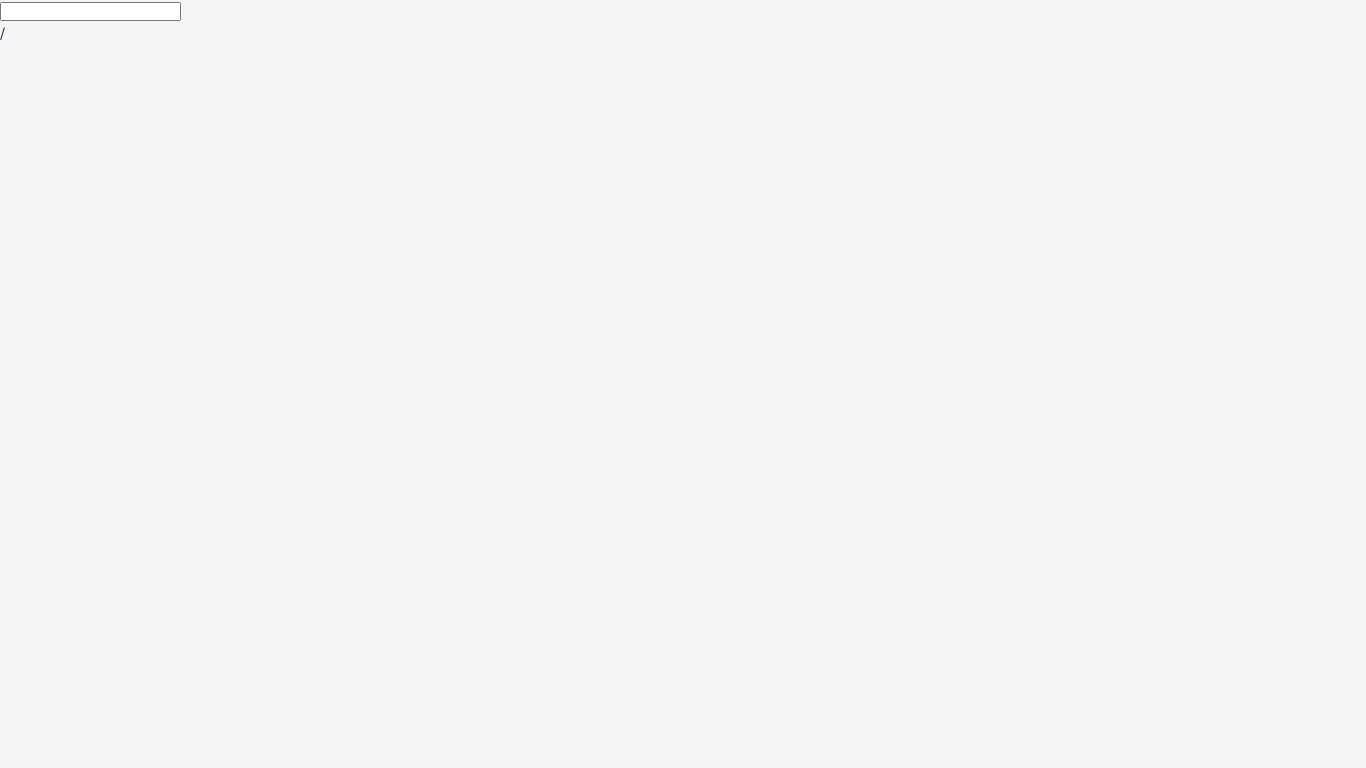
Test: shows a note when device search fails, and still finds pages
Type keys "{Control>}k{/Control}"
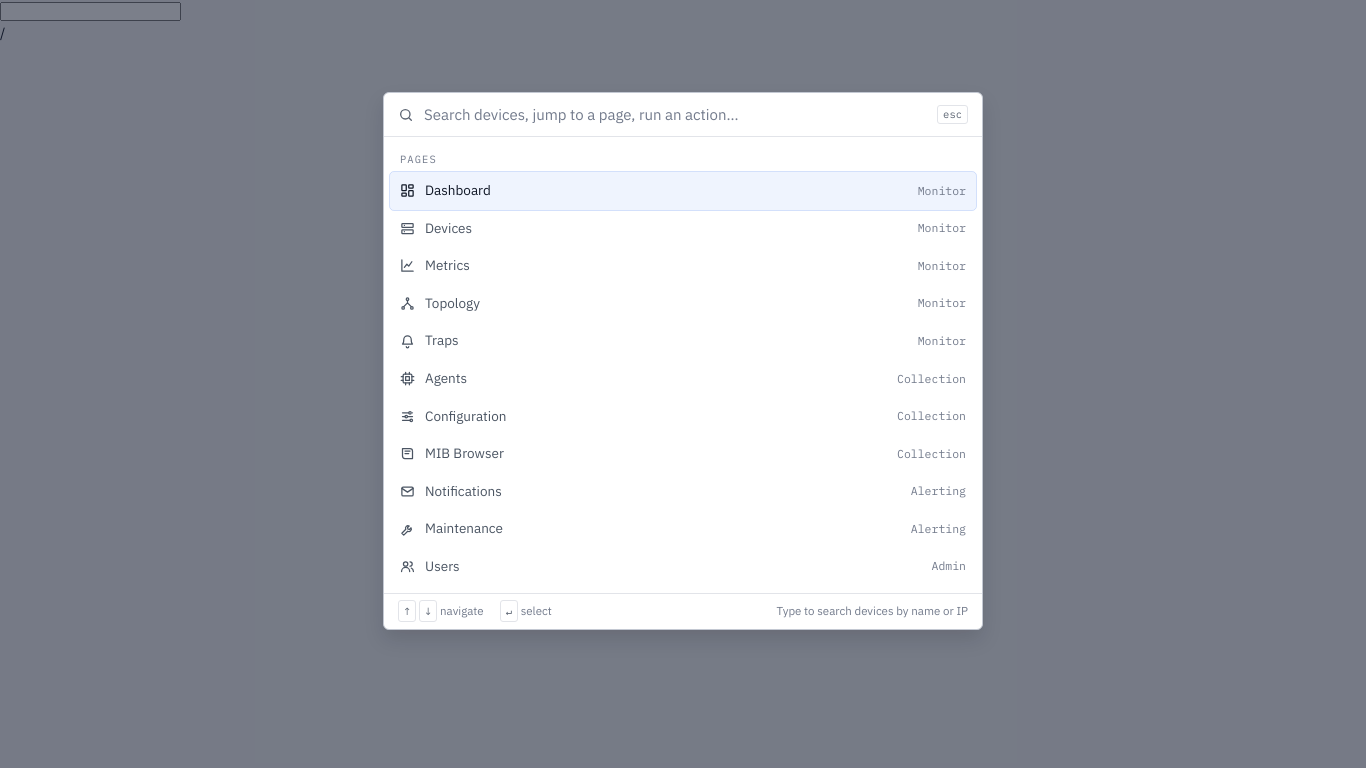
Type "dash" into the dropdown at {"x": 676, "y": 115}, box [424,105,927,124]
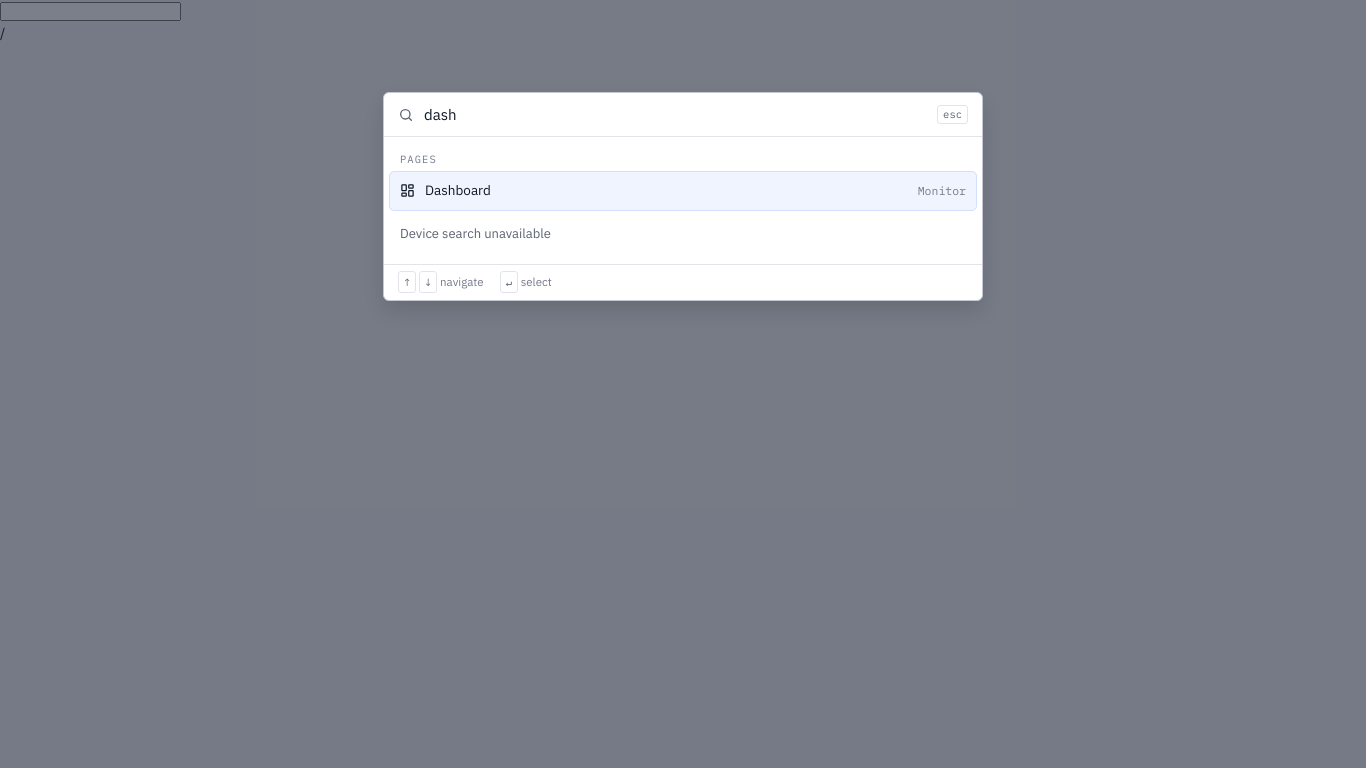
Now the text "Dashboard" is shown, box [425,181,491,199]
Now the list item "Device search unavailable" is shown, box [400,224,551,242]
